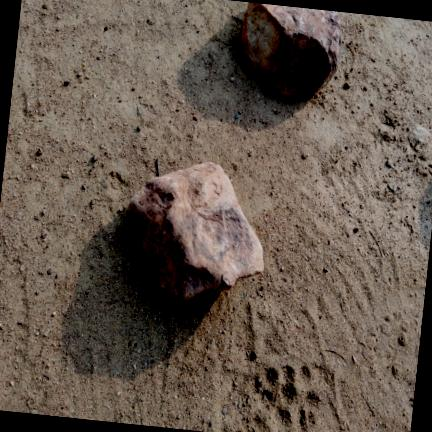Rocks: (125, 163, 262, 299), (240, 2, 340, 95), (411, 125, 426, 144), (221, 408, 226, 415)
